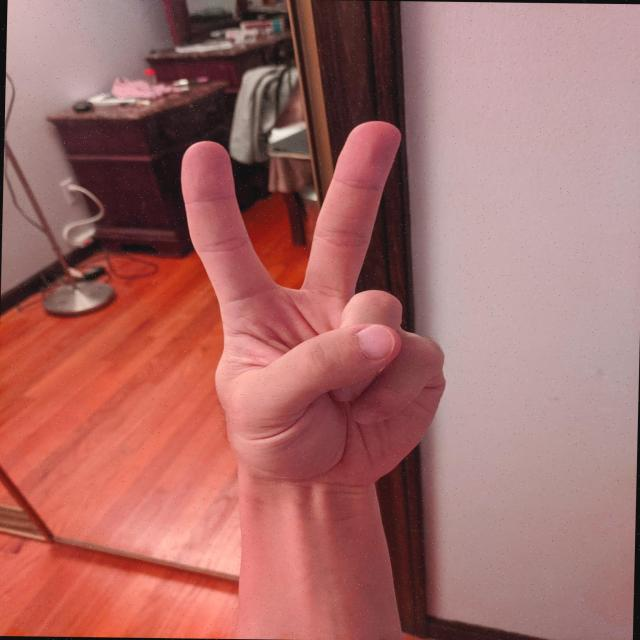V: (165, 113, 458, 494)
